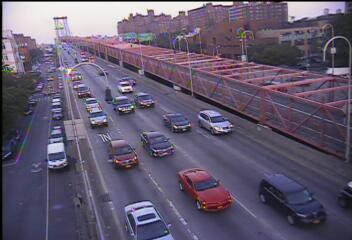neg: (168, 29, 183, 50), (241, 29, 253, 44), (211, 40, 221, 54)
